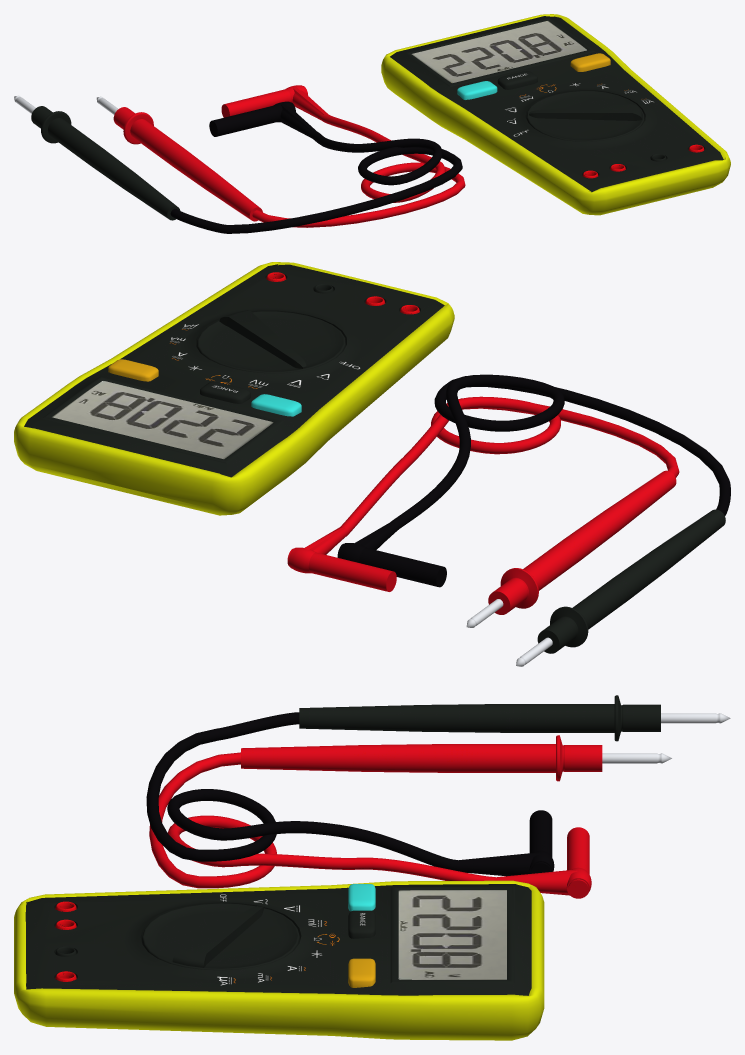
Rendered from fluck__probs.opt.glb.
3 renders of one model, top to bottom at view 1: azimuth 30°, elevation 25°; view 2: azimuth 150°, elevation 25°; view 3: azimuth 270°, elevation 25°, orthographic. The views are drawn at different scales.
Parts seen in each view (by area): view 1: Object_4, Object_7, Object_6, Object_40; view 2: Object_4, Object_7, Object_6, Object_40; view 3: Object_4, Object_7, Object_6, Object_40.
Part boxes in pixels (x1,y1,x2,y2): Object_4: [31, 14, 730, 220]; Object_7: [113, 53, 704, 233]; Object_6: [411, 21, 587, 83]; Object_40: [14, 95, 118, 114]; Object_4: [14, 262, 725, 653]; Object_7: [108, 272, 730, 614]; Object_6: [52, 380, 273, 459]; Object_40: [466, 599, 552, 666]; Object_4: [14, 695, 660, 1040]; Object_7: [55, 712, 602, 987]; Object_6: [398, 890, 506, 979]; Object_40: [602, 713, 730, 763].
Bounding box in the file's own units: 6.3 × 0.6674 × 5.91.
Materials: 15 (15 with a texture image).
